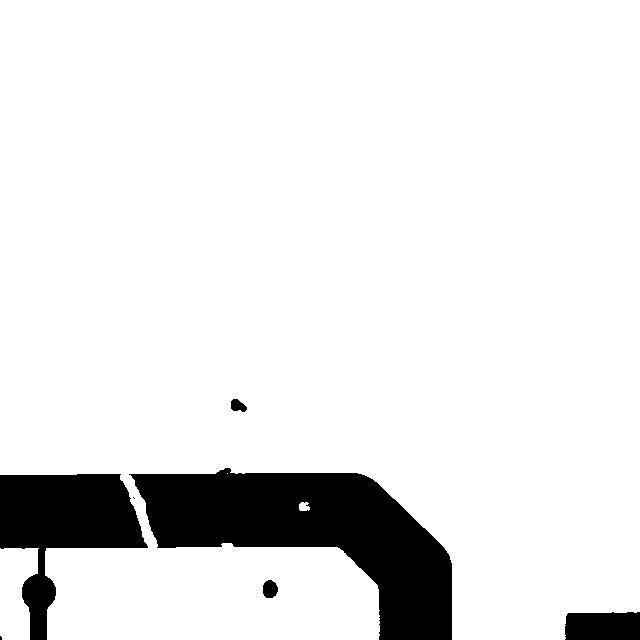copper: (221, 389, 256, 421)
mousebite: (211, 533, 243, 557)
open: (110, 462, 167, 558)
pin-hole: (289, 492, 319, 520)
short: (28, 536, 55, 586)
spur: (206, 458, 240, 487)
